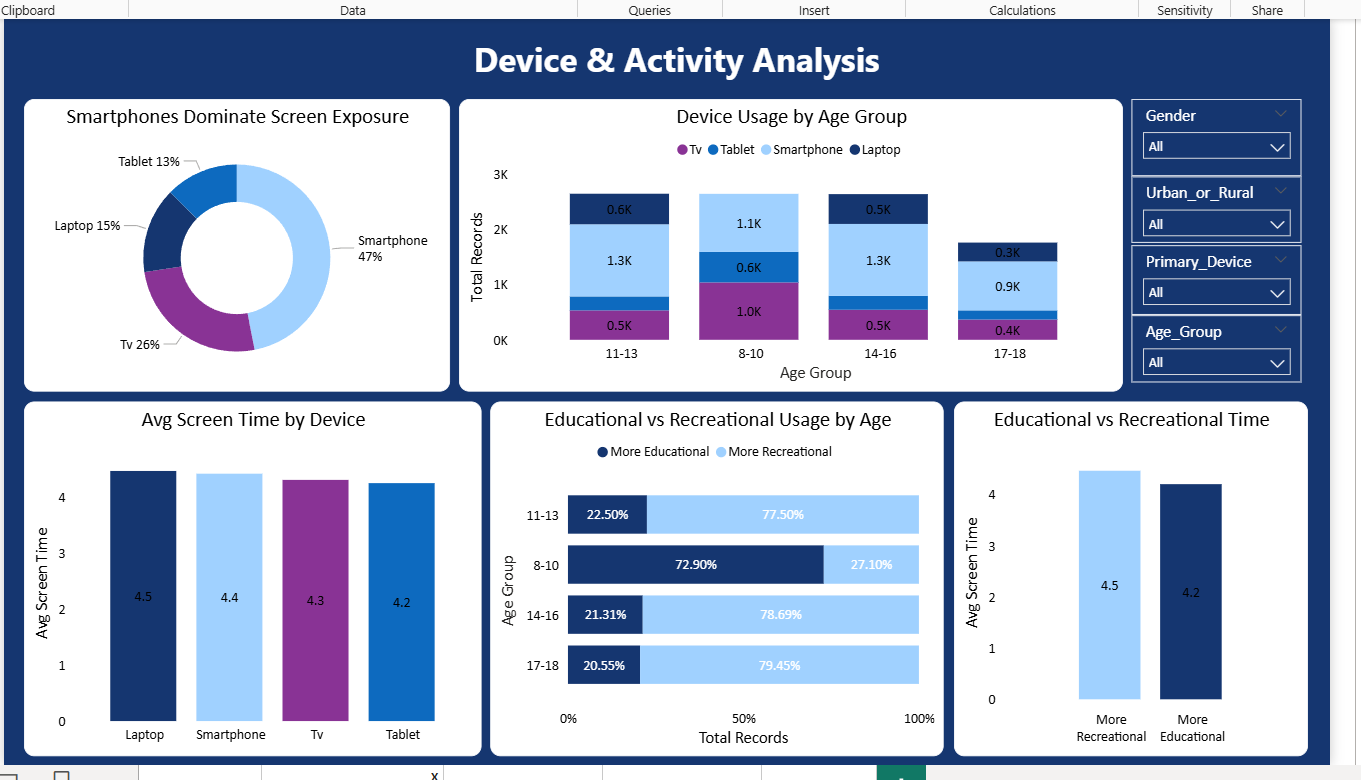

The page's visual inventory and layout, read from the dashboard file:
{"tool":"powerbi","page":{"name":"DEVICE & ACTIVITY","canvas":[1280,720],"ordinal":1},"visuals":[{"type":"donutChart","title":"Smartphones Dominate Screen Exposure","fields":{"Category":["Sheet1.Primary_Device"],"Y":["Sheet1.Total_Records"]},"box":[18.9,76.9,411.2,282.5],"z":0},{"type":"columnChart","title":"Device Usage by Age Group","fields":{"Category":["Sheet1.Age_Group"],"Y":["Sheet1.Total_Records"],"Series":["Sheet1.Primary_Device"]},"box":[438.9,76.9,640.8,282.5],"z":1000},{"type":"hundredPercentStackedBarChart","title":"Educational vs Recreational Usage by Age","fields":{"Y":["Sheet1.Total_Records"],"Category":["Sheet1.Age_Group"],"Series":["Sheet1.Usage_Type"]},"box":[469.3,369.2,437.9,342.6],"z":2000},{"type":"textbox","box":[18.9,12.6,1243.7,52.9],"z":3000},{"type":"slicer","fields":{"Values":["Sheet1.Gender"]},"box":[1088.2,77.2,164.1,74.8],"z":4000},{"type":"slicer","fields":{"Values":["Sheet1.Urban_or_Rural"]},"box":[1088.2,152,164.1,63.9],"z":5000},{"type":"slicer","fields":{"Values":["Sheet1.Age_Group"]},"box":[1088.2,285.9,164.1,65.1],"z":6000},{"type":"slicer","fields":{"Values":["Sheet1.Primary_Device"]},"box":[1088.2,218.4,164.1,67.6],"z":7000},{"type":"columnChart","title":"Educational vs Recreational Time","fields":{"Category":["Sheet1.Usage_Type"],"Y":["Sheet1.Avg_Screen_Time"]},"box":[916.9,369.2,341.4,342.6],"z":8000},{"type":"columnChart","title":"Avg Screen Time by Device","fields":{"Category":["Sheet1.Primary_Device"],"Y":["Sheet1.Avg_Screen_Time"]},"box":[19.3,369.2,441.6,342.6],"z":9000}]}

Visuals, with their boxes on the page's 1280x720 design canvas (x1, y1, x2, y2). These are canvas units, not pixel positions in the 1361x780 screenshot, which may show the page scaled, cropped or inside an application window:
"Smartphones Dominate Screen Exposure" donutChart: [left=19, top=77, right=430, bottom=359]
"Device Usage by Age Group" columnChart: [left=439, top=77, right=1080, bottom=359]
"Educational vs Recreational Usage by Age" hundredPercentStackedBarChart: [left=469, top=369, right=907, bottom=712]
textbox: [left=19, top=13, right=1263, bottom=66]
slicer - Sheet1.Gender: [left=1088, top=77, right=1252, bottom=152]
slicer - Sheet1.Urban_or_Rural: [left=1088, top=152, right=1252, bottom=216]
slicer - Sheet1.Age_Group: [left=1088, top=286, right=1252, bottom=351]
slicer - Sheet1.Primary_Device: [left=1088, top=218, right=1252, bottom=286]
"Educational vs Recreational Time" columnChart: [left=917, top=369, right=1258, bottom=712]
"Avg Screen Time by Device" columnChart: [left=19, top=369, right=461, bottom=712]
